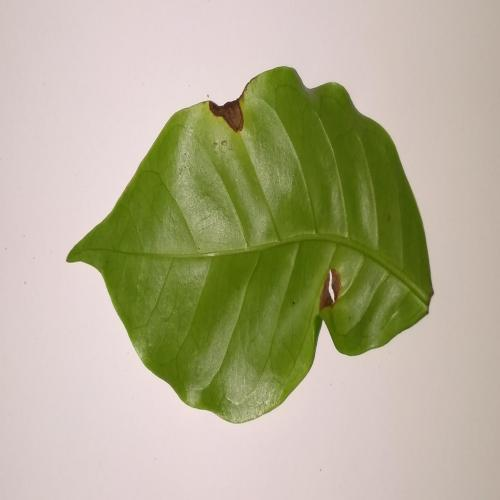miner: (208, 83, 248, 130)
